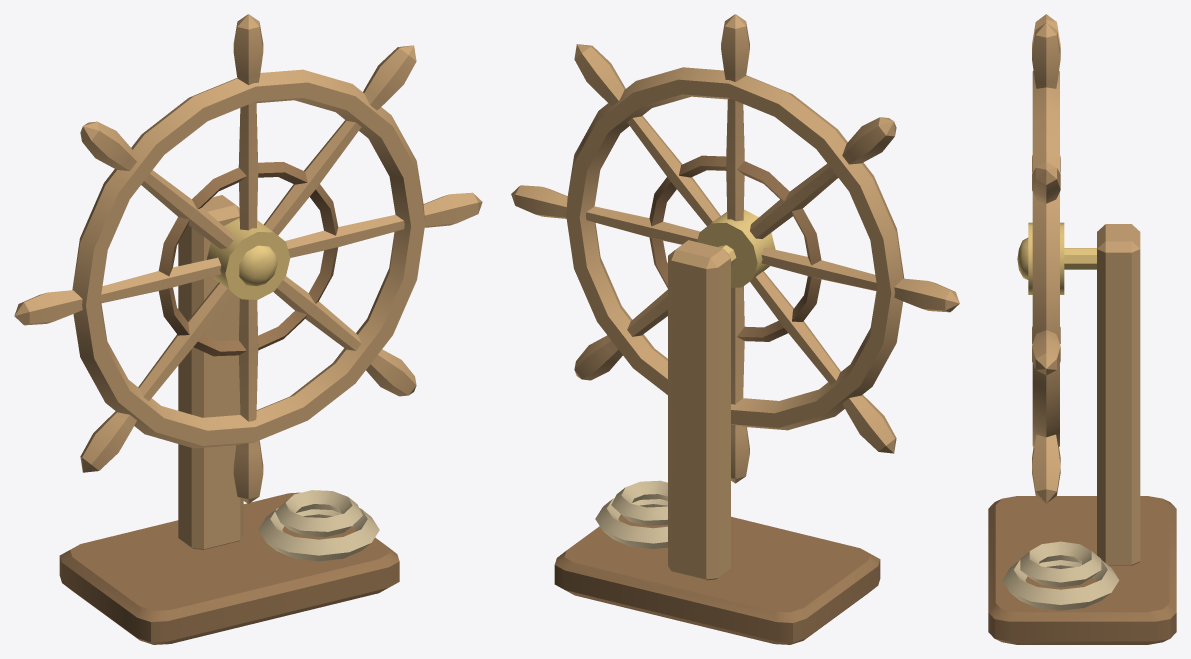
File: furn_ship_wheel.glb
3 views of the same model, side by side, from view 1: azimuth 30°, elevation 25°; view 2: azimuth 150°, elevation 25°; view 3: azimuth 270°, elevation 25° (orthographic). The views are drawn at different scales.
Parts seen in each view (by area): view 1: furn_ship_wheel_body; view 2: furn_ship_wheel_body; view 3: furn_ship_wheel_body.
Boxes of the visible parts, left/top/right/bottom form: furn_ship_wheel_body: left=14, top=14, right=482, bottom=644; furn_ship_wheel_body: left=511, top=14, right=959, bottom=644; furn_ship_wheel_body: left=988, top=14, right=1176, bottom=644.
Size of the model in its own units: 0.72 by 0.86 by 0.26.
